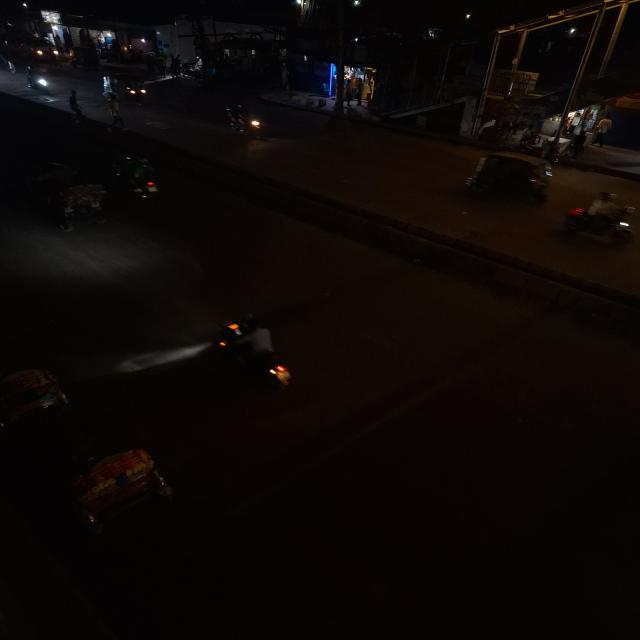cng: (103, 73, 150, 102)
motorcycle: (209, 315, 302, 393), (112, 156, 166, 203), (218, 104, 269, 139), (26, 69, 53, 97)
pedestrian: (104, 94, 124, 133), (65, 88, 85, 118)
rickshaw: (40, 442, 176, 536), (0, 363, 73, 446), (27, 170, 113, 232), (558, 190, 639, 250)
